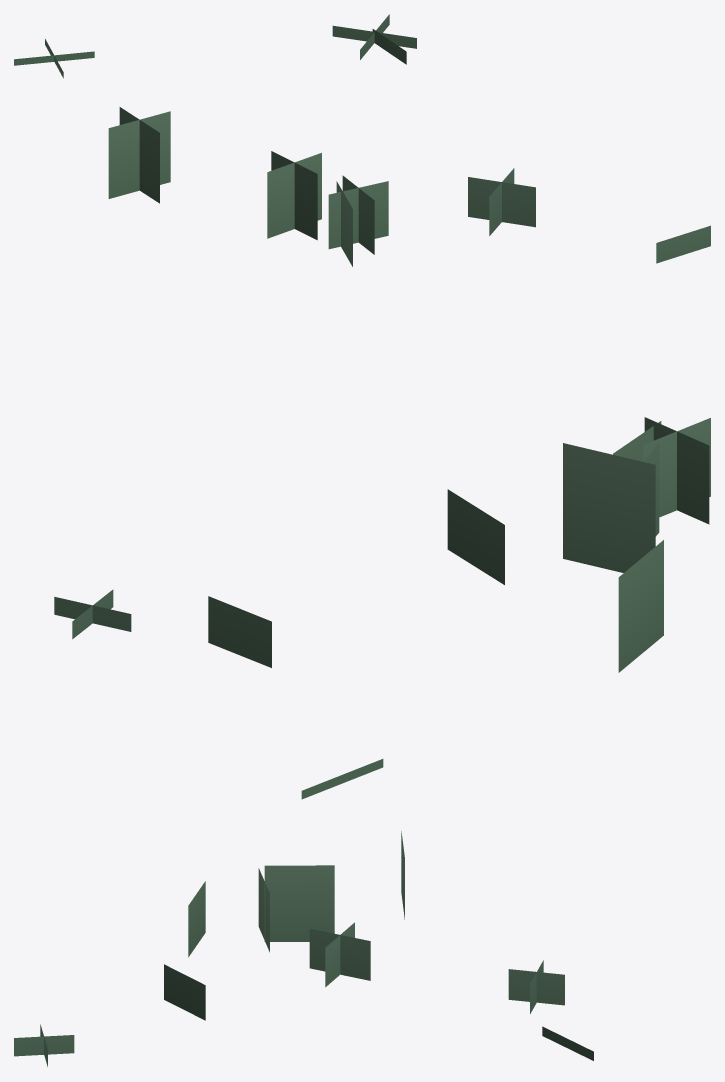
The model's file is moss_patch_v2.glb.
The picture shows the model from 3 angles, top to bottom: view 1: azimuth 30°, elevation 25°; view 2: azimuth 150°, elevation 25°; view 3: azimuth 270°, elevation 25°; orthographic projection. The views are drawn at different scales.
Visible parts, largest first — view 1: world; view 2: world; view 3: world.
Part boxes in pixels (x1,y1,x2,y2): world: (14, 14, 710, 266); world: (54, 417, 710, 799); world: (14, 831, 593, 1066).
Size of the model in its own units: 0.5944 by 0.1208 by 1.
